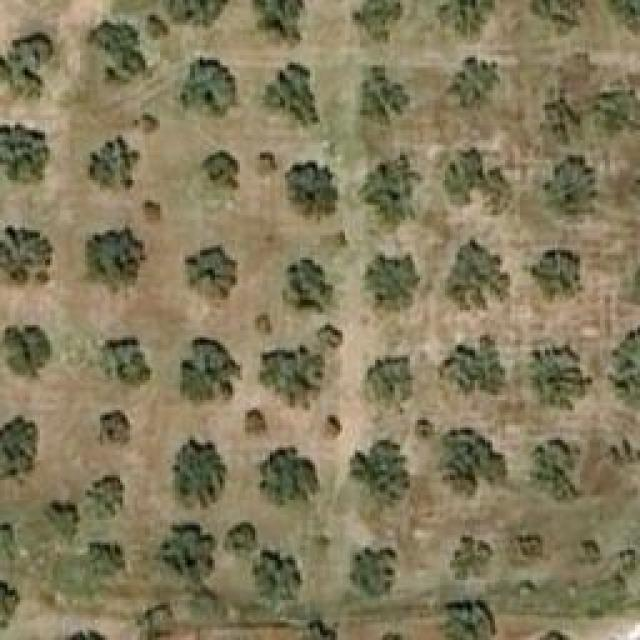Tree: (435, 428, 508, 498), (358, 155, 423, 233), (442, 240, 510, 310), (445, 148, 513, 218), (350, 435, 410, 513), (87, 23, 155, 88), (528, 342, 593, 410), (173, 58, 243, 120), (85, 227, 148, 295), (438, 335, 508, 395), (173, 438, 228, 513), (180, 338, 243, 403), (257, 345, 325, 405), (0, 225, 52, 295), (258, 445, 318, 505), (0, 32, 52, 99), (265, 64, 318, 125), (155, 525, 215, 578), (0, 123, 50, 186), (362, 65, 410, 128), (285, 160, 338, 215), (368, 253, 423, 306), (530, 250, 585, 303), (435, 595, 498, 640), (185, 245, 238, 298), (0, 418, 40, 488), (367, 357, 415, 415), (283, 260, 333, 315), (607, 327, 640, 410), (528, 440, 573, 500), (88, 138, 141, 188), (253, 548, 303, 601), (445, 57, 500, 105), (5, 325, 53, 378), (350, 548, 400, 598), (102, 338, 150, 388), (437, 0, 495, 40), (592, 90, 640, 138), (352, 0, 405, 42), (528, 0, 591, 35), (553, 155, 596, 205), (252, 0, 302, 42), (450, 535, 495, 580), (547, 97, 585, 145), (42, 500, 80, 545), (200, 150, 240, 190), (90, 475, 125, 518), (168, 0, 228, 25), (223, 523, 258, 563), (98, 410, 131, 448), (90, 543, 125, 578), (140, 603, 175, 638), (610, 0, 640, 35), (0, 580, 20, 628), (243, 405, 268, 435), (0, 522, 18, 560), (320, 322, 343, 350), (518, 535, 543, 558), (253, 150, 276, 175), (143, 198, 168, 218), (253, 310, 273, 335), (138, 110, 158, 133), (580, 535, 598, 560), (325, 415, 343, 438)
